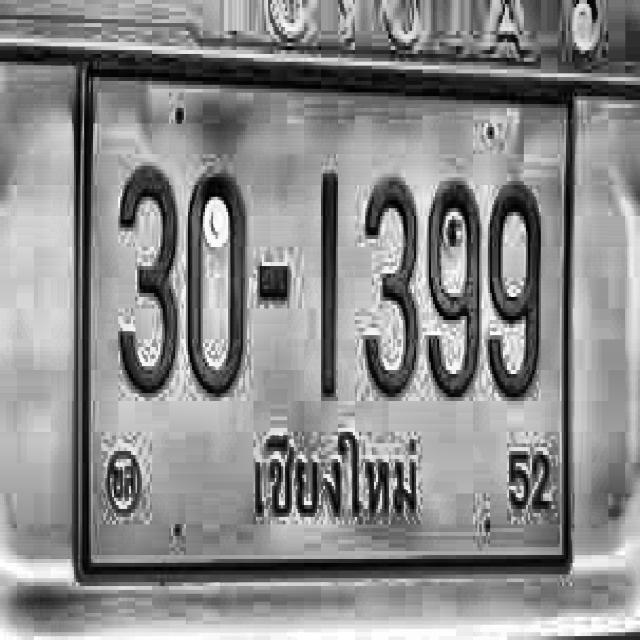license-plate: (72, 32, 579, 611)
